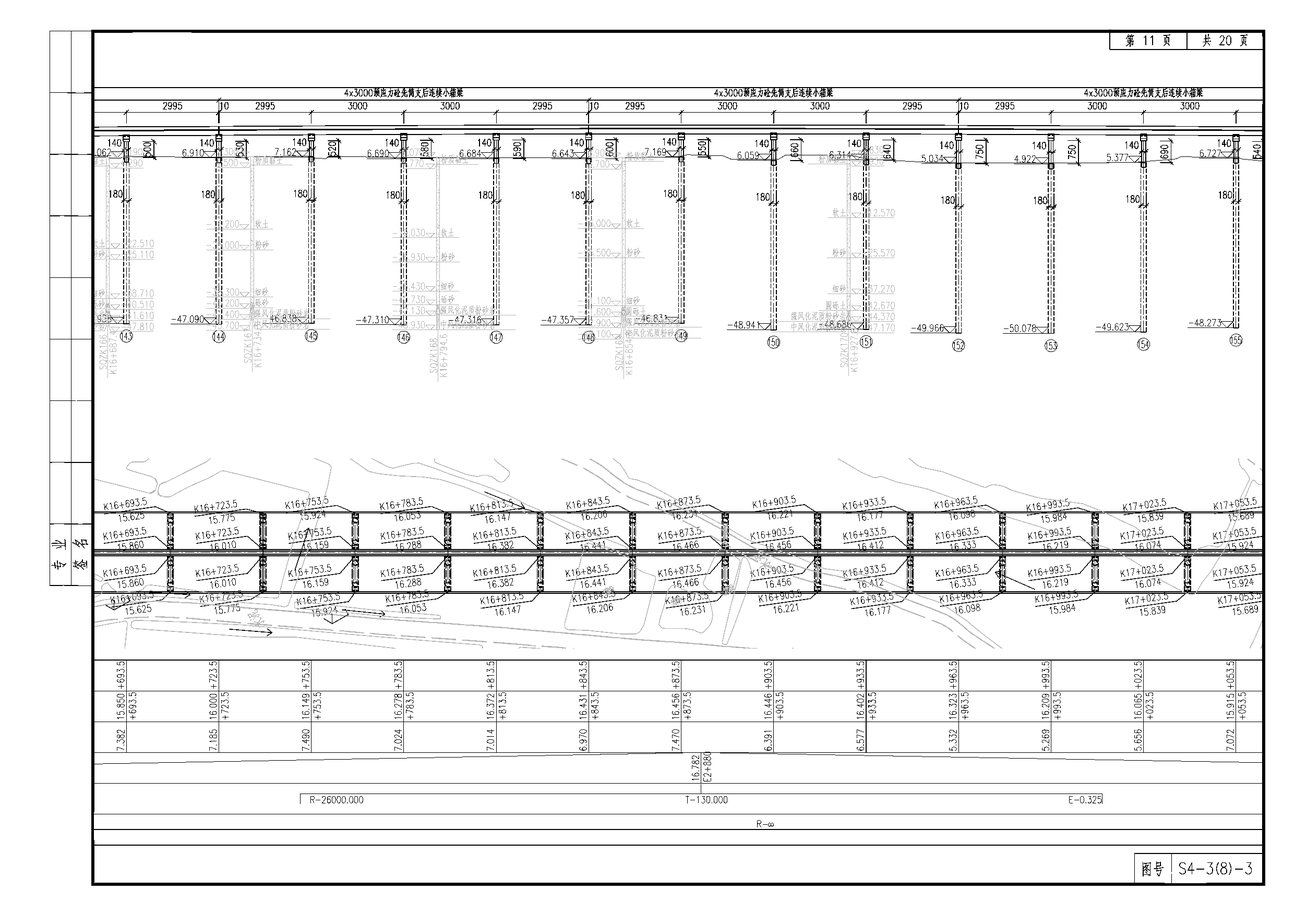A: (89, 76, 1267, 385)
